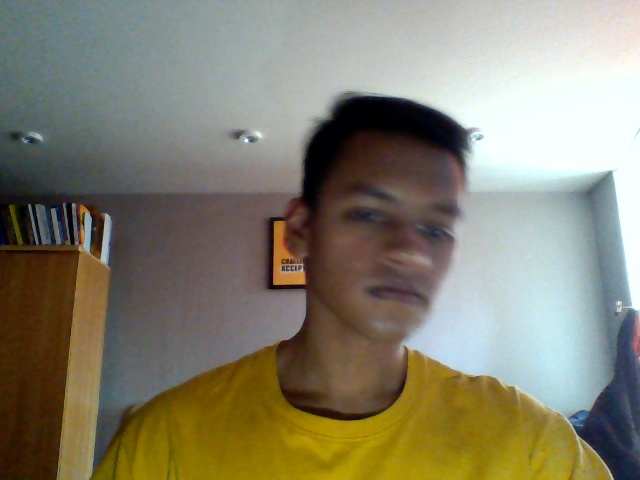no_mask: (298, 229, 456, 345)
